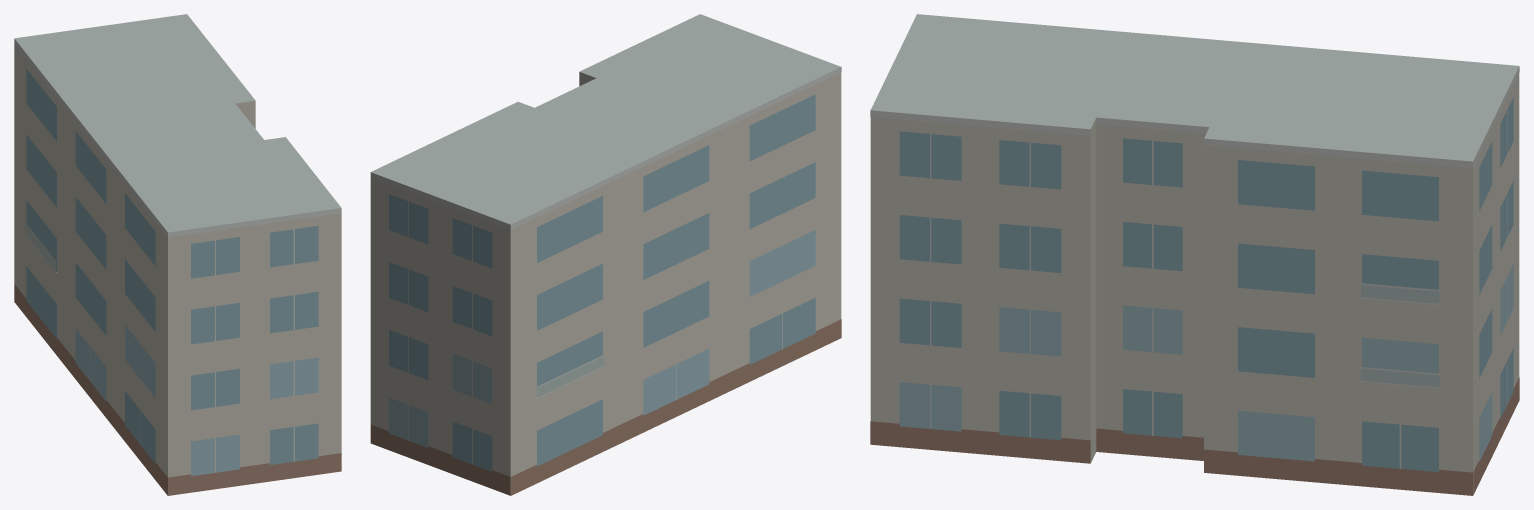
File: residential-278cb6da-f17d-44da-b6a5-d4cab49e3f1d.glb
The picture shows the model from 3 angles, left to right: view 1: azimuth 30°, elevation 25°; view 2: azimuth 150°, elevation 25°; view 3: azimuth 270°, elevation 25°; orthographic projection. The views are drawn at different scales.
Parts seen in each view (by area): view 1: residential-278cb6da-f17d-44da-b6a5-d4cab49e3f1d.tmp; view 2: residential-278cb6da-f17d-44da-b6a5-d4cab49e3f1d.tmp; view 3: residential-278cb6da-f17d-44da-b6a5-d4cab49e3f1d.tmp.
Boxes of the visible parts, x1=… form: residential-278cb6da-f17d-44da-b6a5-d4cab49e3f1d.tmp: x1=14, y1=14, x2=341, y2=495; residential-278cb6da-f17d-44da-b6a5-d4cab49e3f1d.tmp: x1=370, y1=14, x2=841, y2=495; residential-278cb6da-f17d-44da-b6a5-d4cab49e3f1d.tmp: x1=870, y1=14, x2=1519, y2=495.
Bounding box in the file's own units: 11.56 × 12.2 × 21.47.
